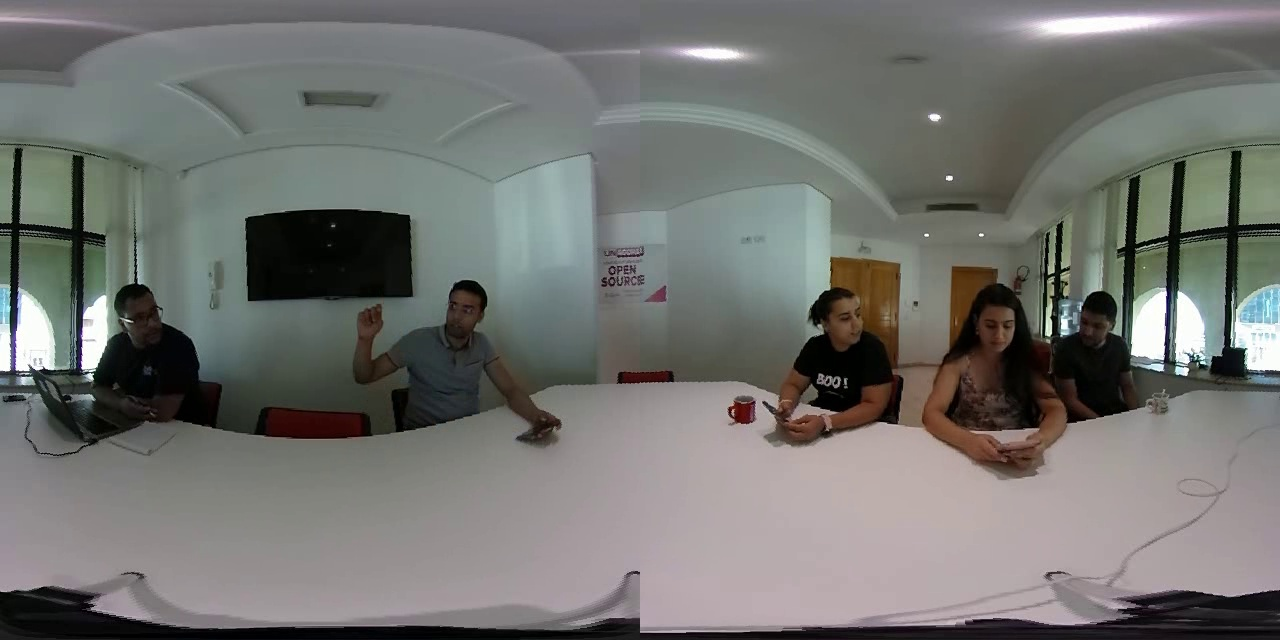person: (338, 254, 519, 446), (769, 276, 899, 453), (921, 272, 1047, 452), (85, 278, 205, 421), (1051, 284, 1141, 419)
